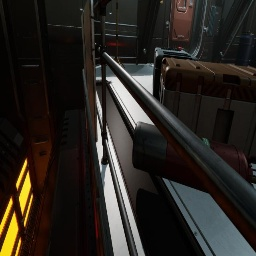EmergencyPhone ,: (160, 0, 163, 4)
NitrogenTank ,: (132, 121, 256, 194)
